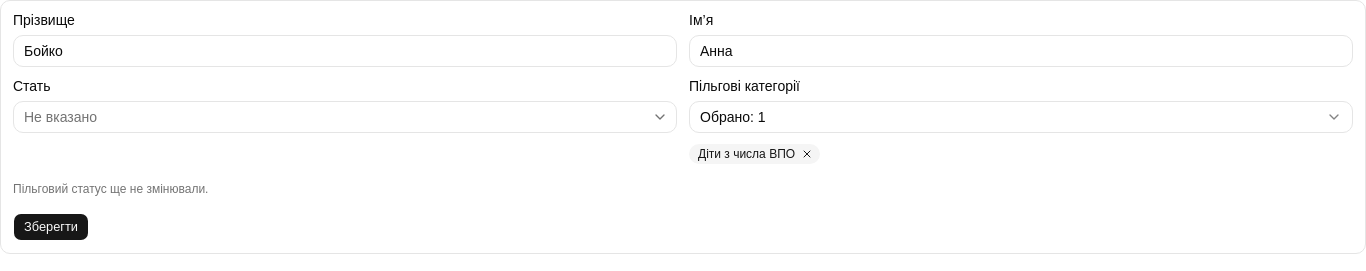
профіль учня › прибрали всі категорії — пільги немає
Click the button named "Прибрати «Діти з числа ВПО»" at (807, 154), box x1=799 y1=146 x2=815 y2=162
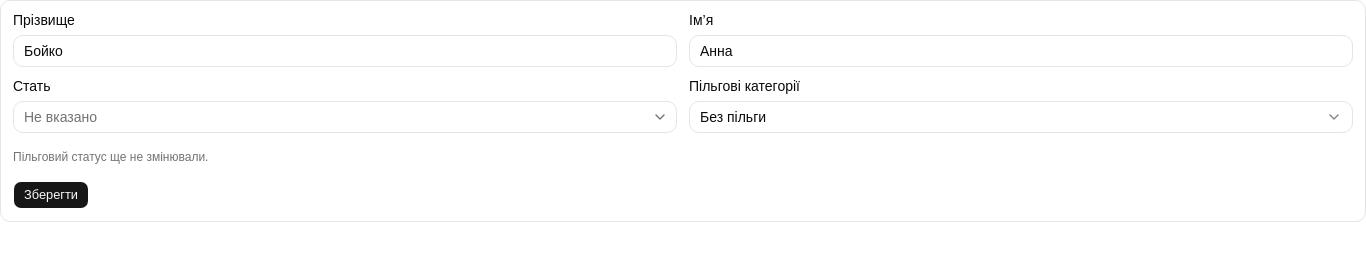
Check: the button named "Пільгові категорії" reads "Без пільги", box x1=689 y1=101 x2=1353 y2=133
